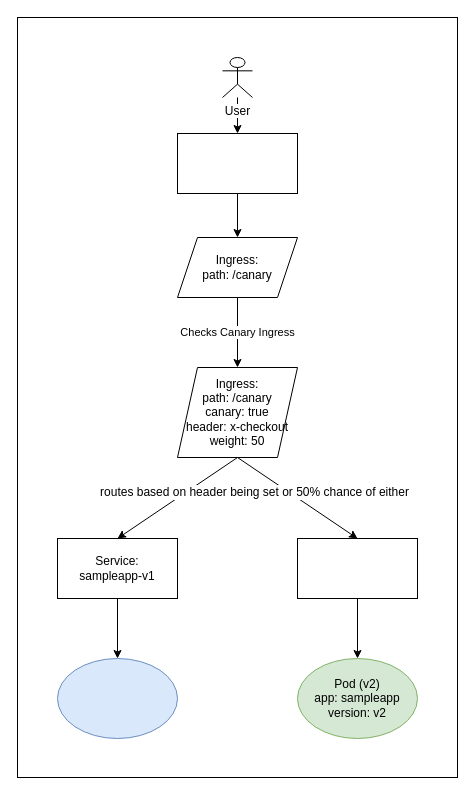
The diagram is 475 pixels wide and 795 high, and some of its shapes have lost their labels. Each missing label, with the centre of its shape:
"Pod (v1) app: sampleapp version: v1" belongs at point 117,698.
"Service: sampleapp-canary" belongs at point 237,163.
"Service: sampleapp-v2" belongs at point 357,568.
